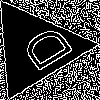D: (11, 23, 75, 79)
